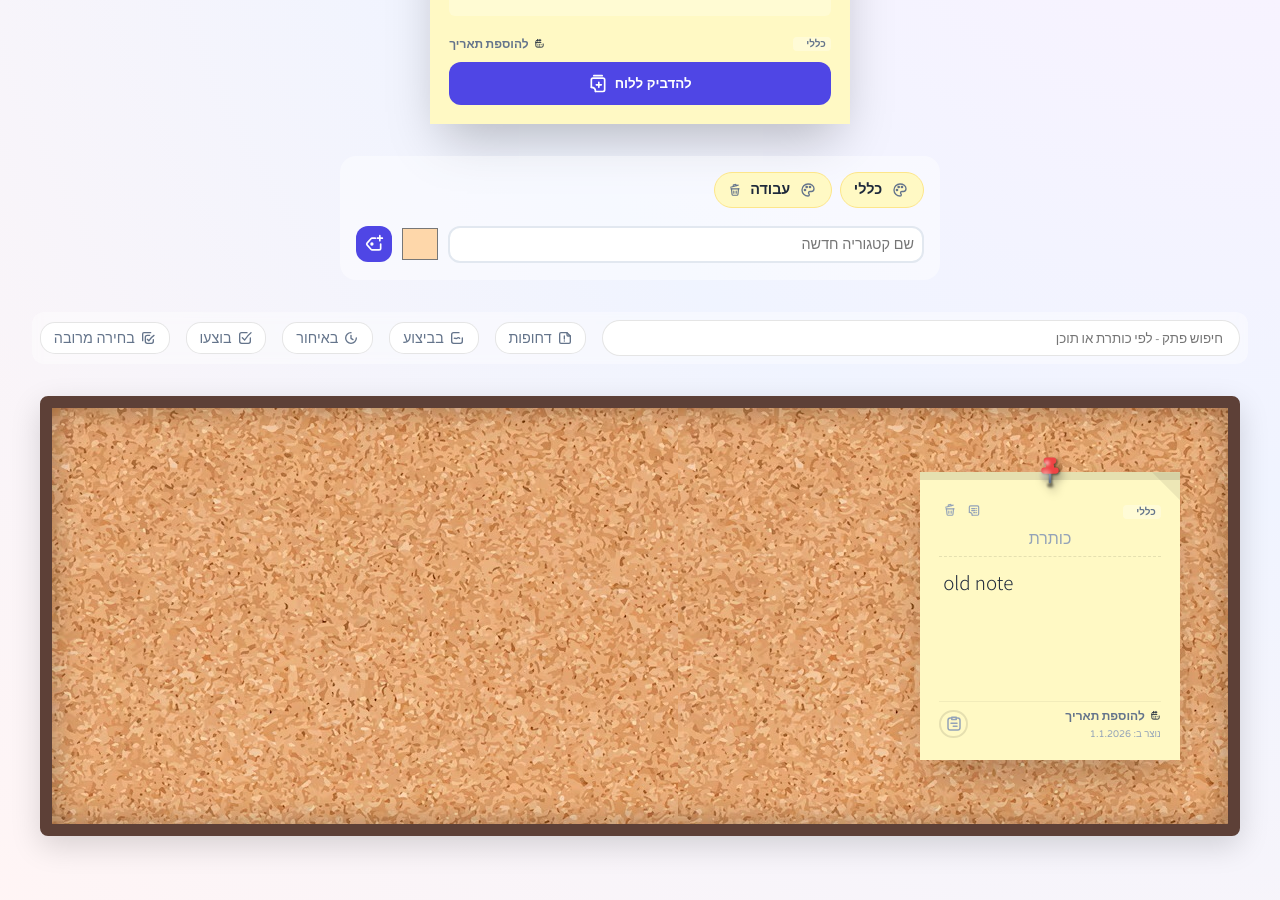
Scenario: deleting a note › keeps the note when the deletion is cancelled
(page scrolled)
Click the button named "מחיקה" at {"x": 950, "y": 512}, box [939,500,961,526]
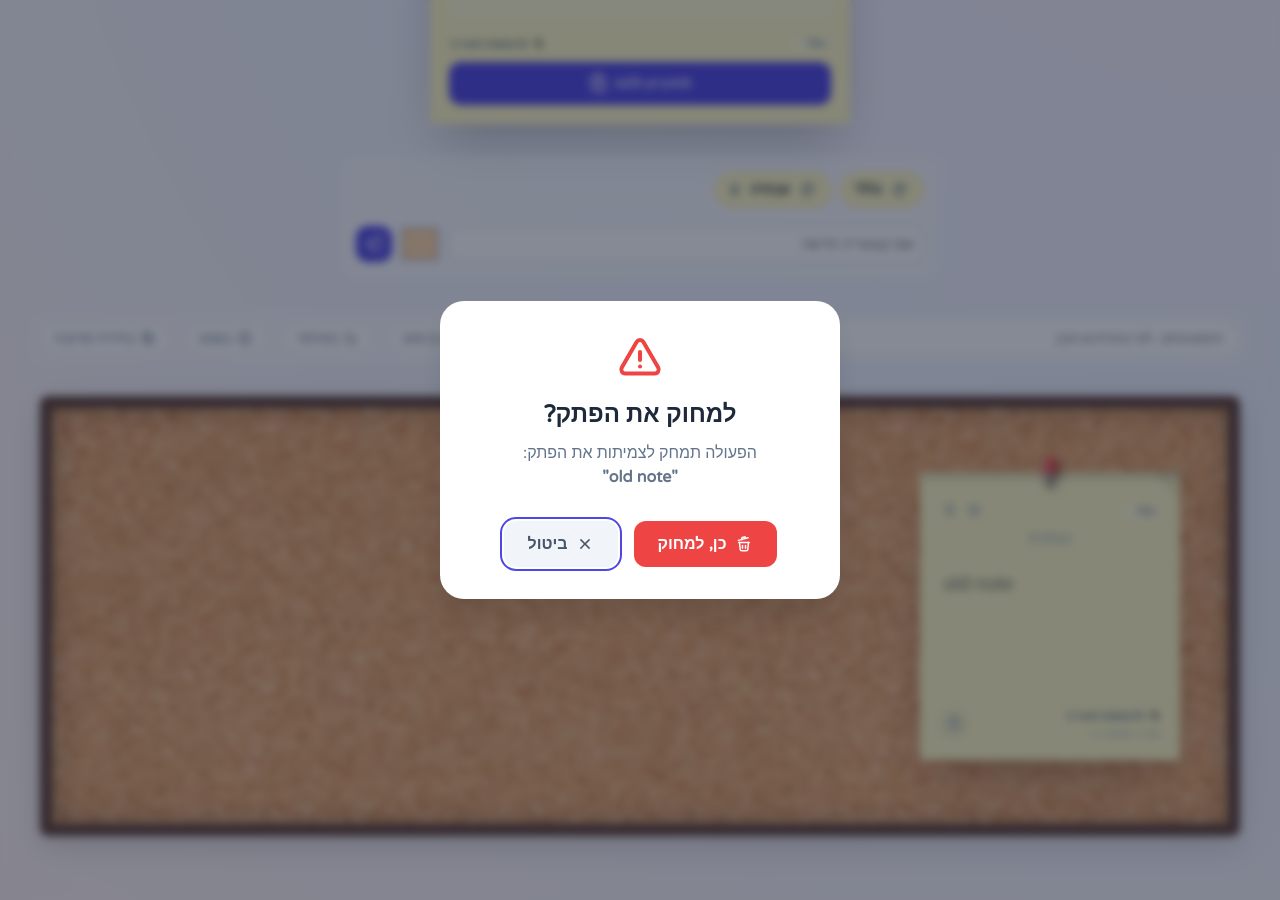
Now the heading "למחוק את הפתק?" is shown, box [544,400,736,429]
Click the button "ביטול" at {"x": 561, "y": 544}, box [504,521,618,567]
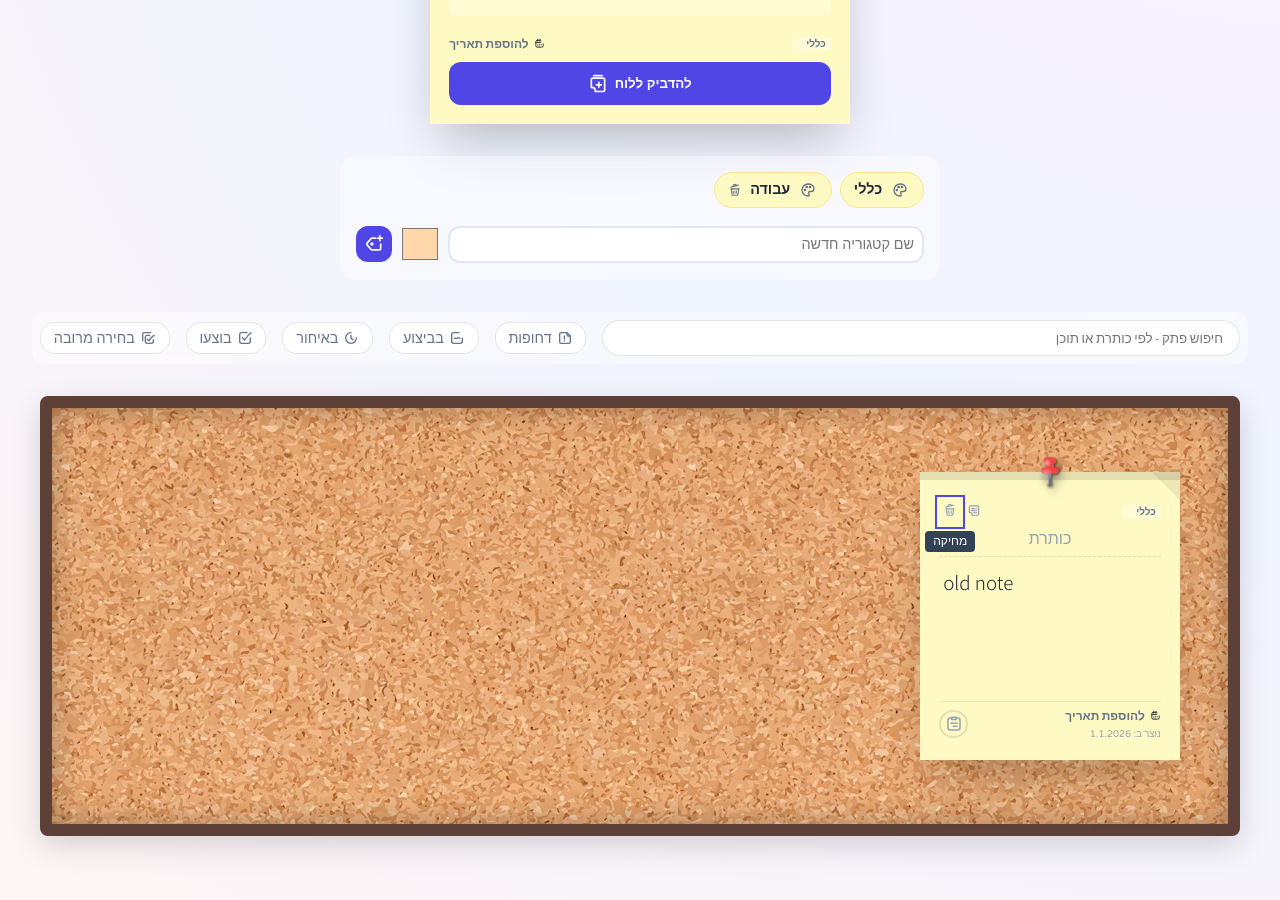
Expected: the field "old note" is shown, [943,570,1013,596]
Now the heading "למחוק את הפתק?" is gone
